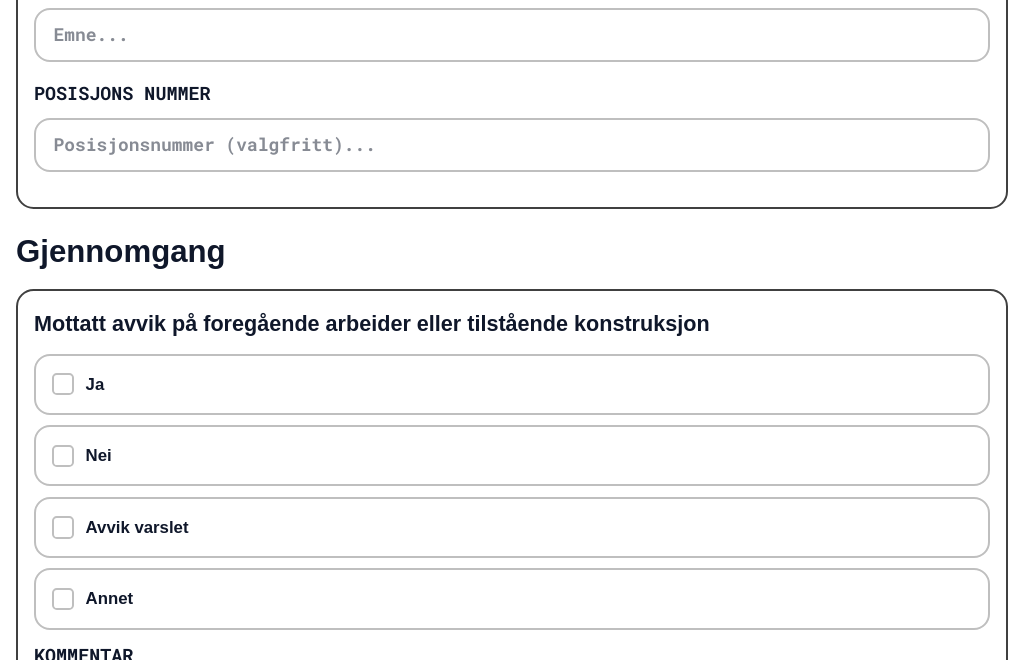
Test case: KSMontasjeFoldeOgSkyvScreen › renders and updates progress when selecting checklist option
(page scrolled)
What coordinates should you click on to do the following:
click the button "Ja"
I would click on:
 (63, 384)
Its box is [34, 354, 990, 415].
(page scrolled)
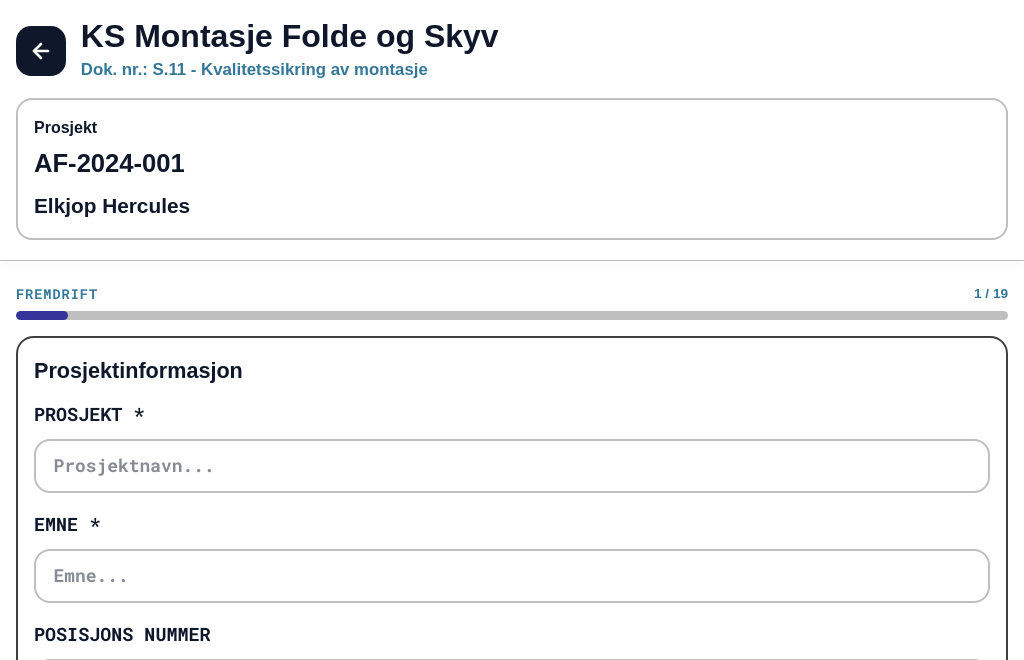
Expected: the text "1 / 19" is shown, [974, 284, 1008, 304]
